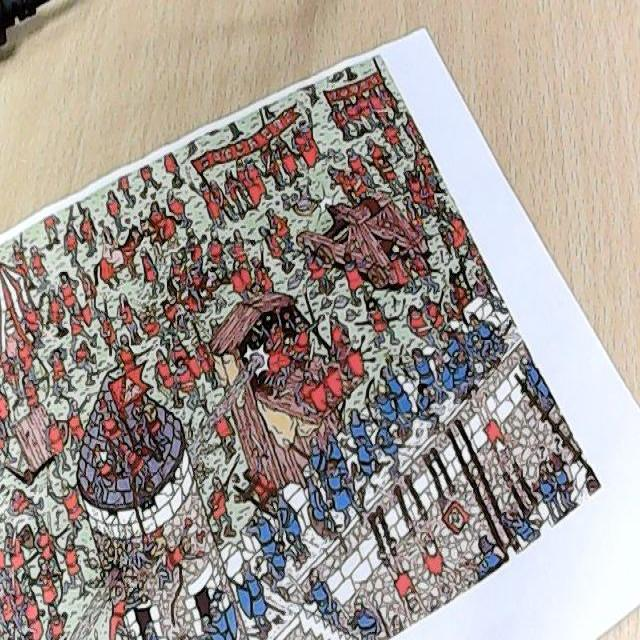waldo: (245, 277, 264, 299)
